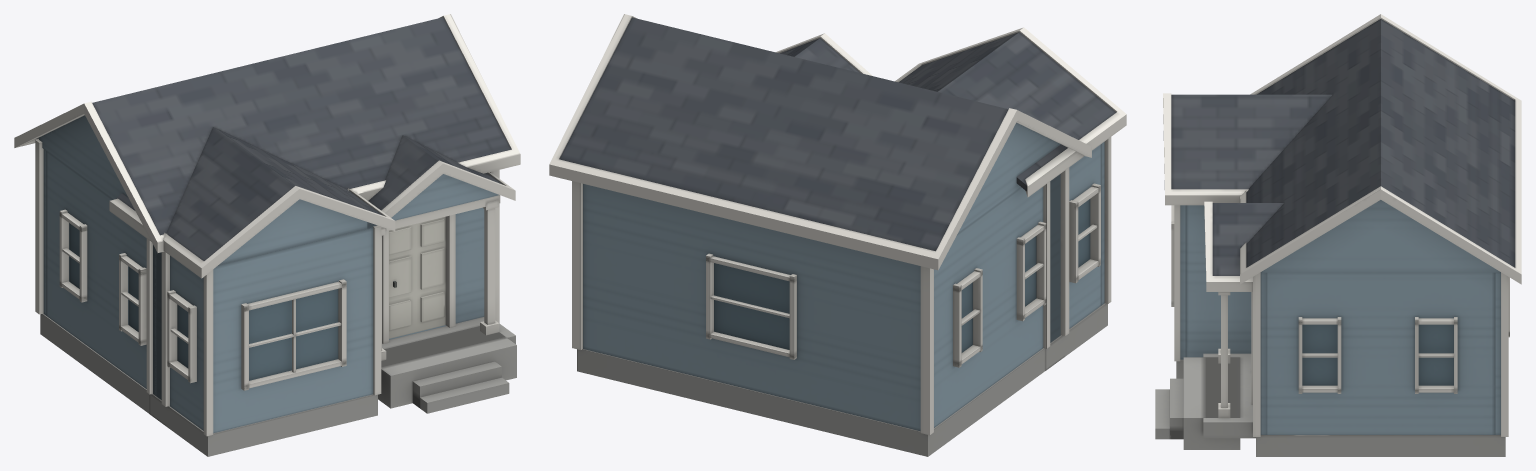
File: House_07_Staggered_Gables.fbx
3 views of the same model, side by side, from view 1: azimuth 30°, elevation 25°; view 2: azimuth 150°, elevation 25°; view 3: azimuth 270°, elevation 25° (orthographic). The views are drawn at different scales.
Visible parts, largest first — view 1: House_07_Staggered_Gables; view 2: House_07_Staggered_Gables; view 3: House_07_Staggered_Gables.
Part boxes in pixels (bbox=[...]): House_07_Staggered_Gables: bbox=[14, 14, 520, 456]; House_07_Staggered_Gables: bbox=[549, 14, 1126, 456]; House_07_Staggered_Gables: bbox=[1155, 14, 1521, 456].
Bounding box in the file's own units: 7.04 × 5.18 × 6.21.
Materials: 1 (1 with a texture image).
